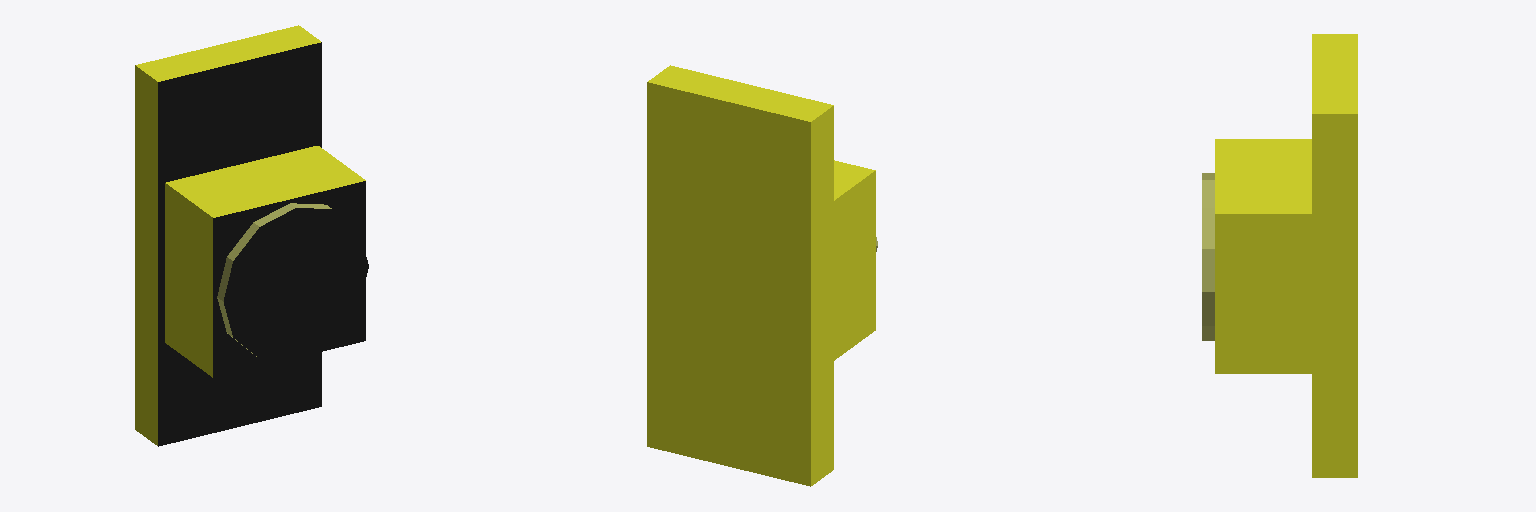
The model's file is k_and_c_machine_pad.obj.
The picture shows the model from 3 angles: view 1: azimuth 30°, elevation 25°; view 2: azimuth 150°, elevation 25°; view 3: azimuth 270°, elevation 25°; orthographic projection.
Parts seen in each view (by area): view 1: (null); view 2: (null); view 3: (null).
Part boxes in pixels (x1,y1,x2,y2): (null): (135, 25, 368, 446); (null): (647, 65, 877, 486); (null): (1202, 34, 1357, 477).
Size of the model in its own units: 0.45 by 0.9563 by 0.3697.